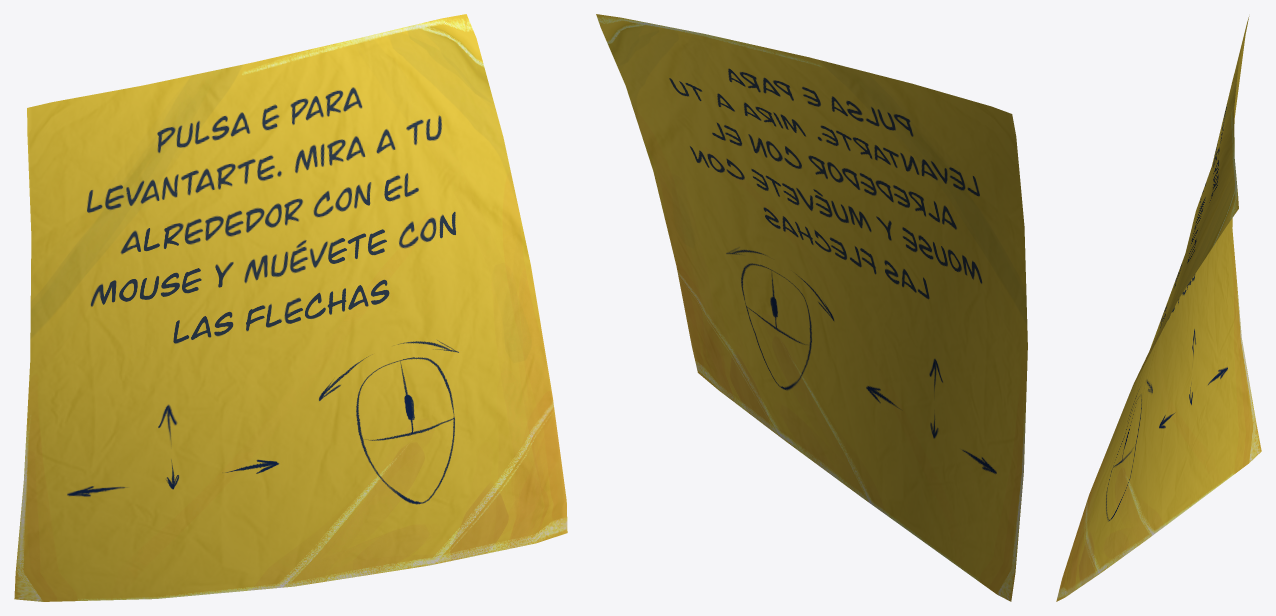
Rendered from postit3.fbx.
3 renders of one model, left to right at view 1: azimuth 30°, elevation 25°; view 2: azimuth 150°, elevation 25°; view 3: azimuth 270°, elevation 25°, orthographic. The views are drawn at different scales.
Visible parts, largest first — view 1: Plane; view 2: Plane; view 3: Plane.
Boxes of the visible parts, x1,y1,x2,y2 form: Plane: [14, 14, 567, 601]; Plane: [596, 14, 1027, 601]; Plane: [1056, 16, 1261, 601].
Bounding box in the file's own units: 74.78 × 80.22 × 33.68.
1 material, 1 textured.
